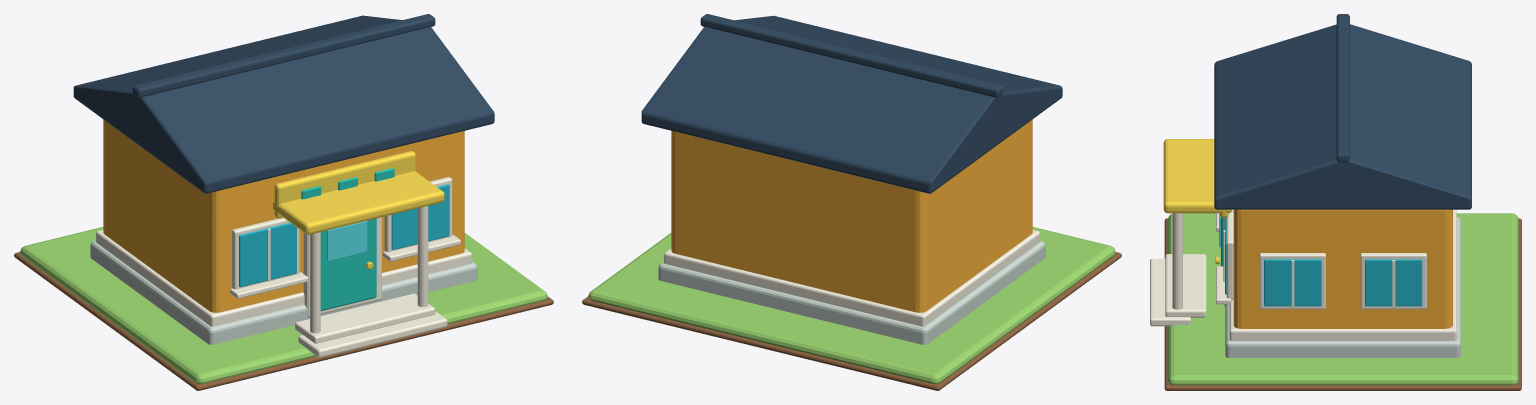
Rendered from SM_TeamOffice.fbx.
The picture shows the model from 3 angles, left to right: view 1: azimuth 30°, elevation 25°; view 2: azimuth 150°, elevation 25°; view 3: azimuth 270°, elevation 25°; orthographic projection. The views are drawn at different scales.
Parts seen in each view (by area): view 1: Solid pitched roof.001, Main building volume, Beveled site foundation.006, Stone building plinth, Entrance canopy.001, Roof ridge cap.001, Wall base course, Foundation shadow course.006, Door leaf.001, Porch step.001, Recessed turquoise glass.033, Company sign board (+10 smaller); view 2: Main building volume, Solid pitched roof.001, Beveled site foundation.006, Stone building plinth, Wall base course, Roof ridge cap.001, Foundation shadow course.006; view 3: Solid pitched roof.001, Beveled site foundation.006, Main building volume, Stone building plinth, Entrance canopy.001, Wall base course, Foundation shadow course.006, Side glass.013, Side glass.012, Porch step.001, Roof ridge cap.001, Porch step (+5 smaller).
Part boxes in pixels (bbox=[...]): Solid pitched roof.001: bbox=[73, 15, 494, 193]; Main building volume: bbox=[103, 119, 464, 312]; Beveled site foundation.006: bbox=[20, 227, 547, 383]; Stone building plinth: bbox=[90, 241, 477, 344]; Entrance canopy.001: bbox=[273, 171, 444, 234]; Roof ridge cap.001: bbox=[132, 14, 435, 97]; Wall base course: bbox=[96, 230, 471, 326]; Foundation shadow course.006: bbox=[14, 252, 553, 390]; Door leaf.001: bbox=[320, 218, 376, 310]; Porch step.001: bbox=[295, 293, 435, 343]; Recessed turquoise glass.033: bbox=[239, 222, 296, 287]; Company sign board: bbox=[274, 151, 415, 218]; Main building volume: bbox=[671, 119, 1032, 312]; Solid pitched roof.001: bbox=[641, 15, 1062, 193]; Beveled site foundation.006: bbox=[588, 227, 1115, 383]; Stone building plinth: bbox=[658, 241, 1045, 344]; Wall base course: bbox=[664, 230, 1039, 326]; Roof ridge cap.001: bbox=[700, 14, 1003, 97]; Foundation shadow course.006: bbox=[582, 252, 1121, 390]; Solid pitched roof.001: bbox=[1214, 24, 1471, 209]; Beveled site foundation.006: bbox=[1167, 213, 1518, 385]; Main building volume: bbox=[1233, 209, 1452, 328]; Stone building plinth: bbox=[1225, 217, 1460, 357]; Entrance canopy.001: bbox=[1163, 139, 1231, 213]; Wall base course: bbox=[1229, 209, 1456, 340]; Foundation shadow course.006: bbox=[1164, 218, 1521, 390]; Side glass.013: bbox=[1365, 259, 1422, 306]; Side glass.012: bbox=[1264, 259, 1321, 306]; Porch step.001: bbox=[1165, 254, 1206, 317]; Roof ridge cap.001: bbox=[1336, 14, 1349, 162]; Porch step: bbox=[1150, 258, 1190, 326].
Size of the model in its own units: 7.32 by 4.5 by 6.79.
